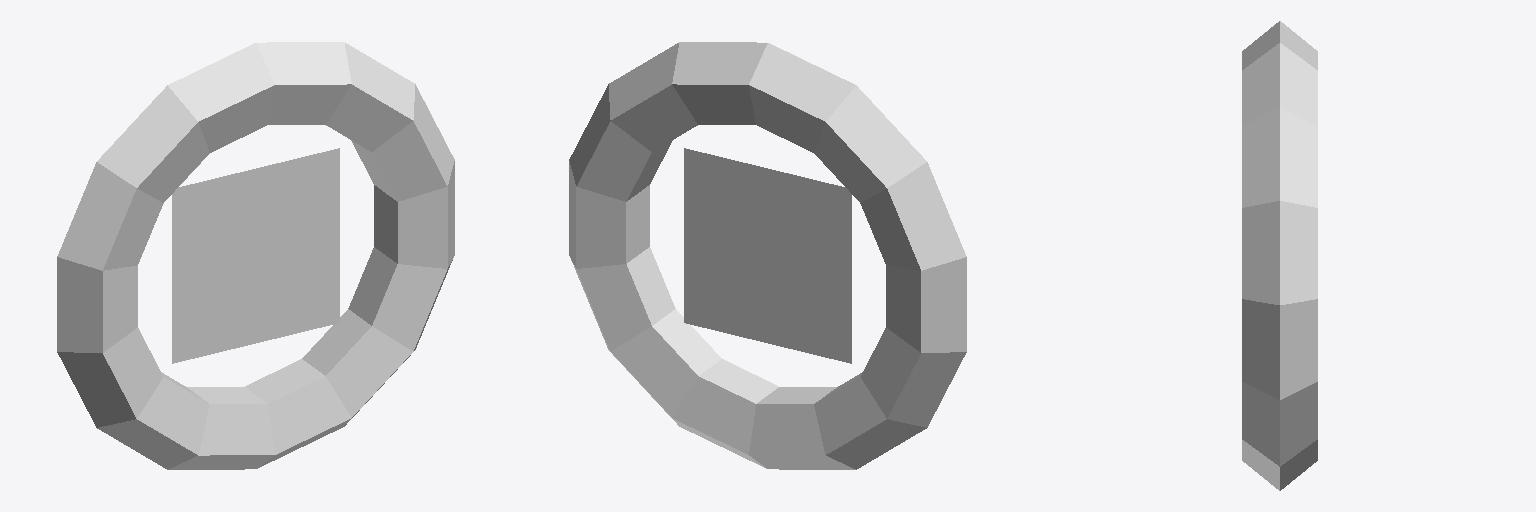
The model's file is cmn_obj_superring_SD.obj.
The picture shows the model from 3 angles: view 1: azimuth 30°, elevation 25°; view 2: azimuth 150°, elevation 25°; view 3: azimuth 270°, elevation 25°; orthographic projection.
Parts seen in each view (by area): view 1: polygon0, polygon1; view 2: polygon0, polygon1; view 3: polygon0.
Part boxes in pixels (left/top/right/bottom): polygon0: left=57, top=42, right=454, bottom=469; polygon1: left=172, top=148, right=339, bottom=363; polygon0: left=569, top=42, right=966, bottom=469; polygon1: left=684, top=148, right=851, bottom=363; polygon0: left=1242, top=21, right=1317, bottom=490.
Size of the model in its own units: 9.74 by 9.99 by 1.62.